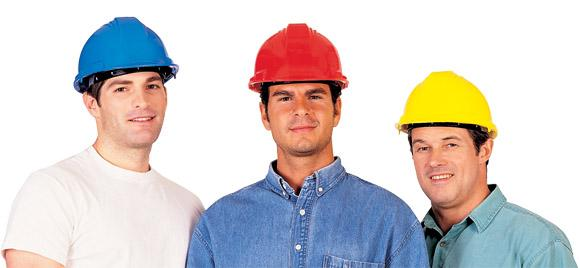helmet: (72, 17, 178, 91), (250, 23, 350, 93), (397, 73, 498, 141)
